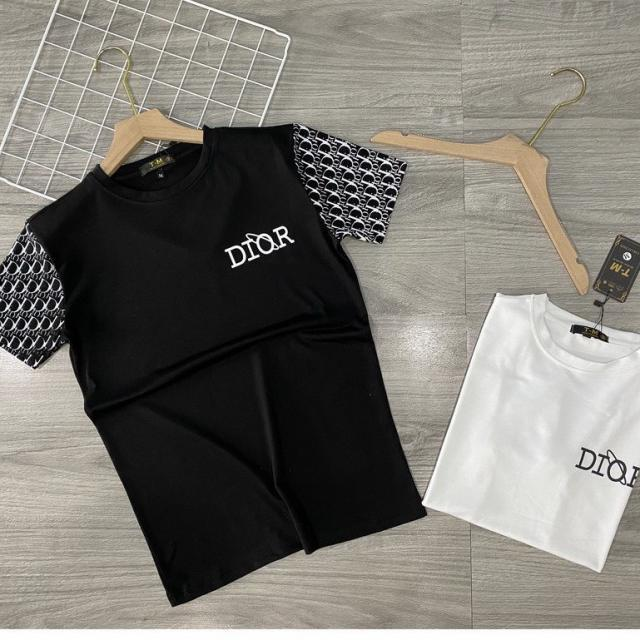shirt: (1, 124, 427, 614), (418, 289, 638, 576)
